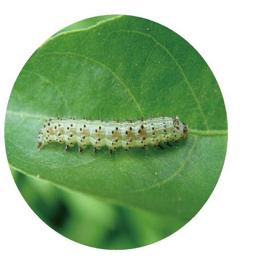Tobacco_budworm: (35, 116, 190, 154)
